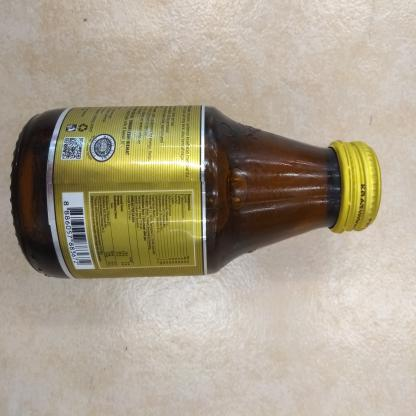bottle: (8, 95, 385, 281)
